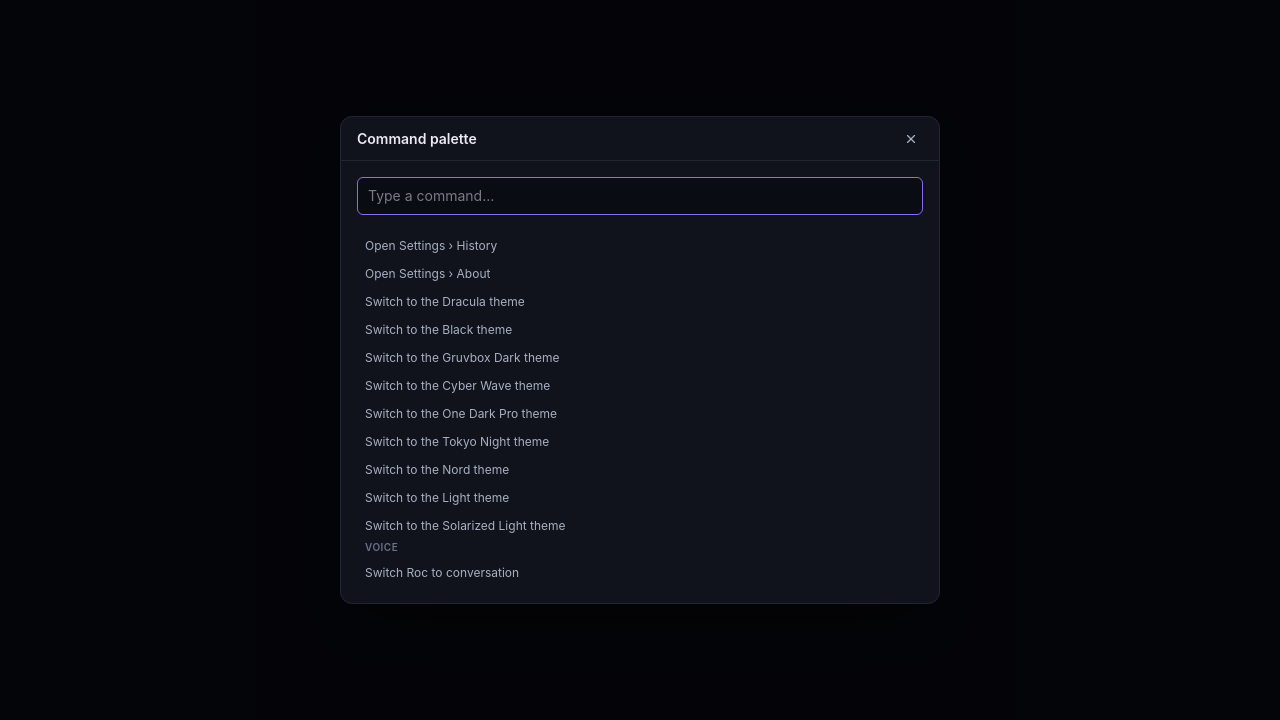
Test: CommandPalette › offers the voice mode you are not in, and switches to it
The image size is (1280, 720).
(page scrolled)
expect the option "Switch Roc to dictation" is not shown: met
Click the option "Switch Roc to conversation": (442, 572) [365,565,519,580]
(page scrolled)
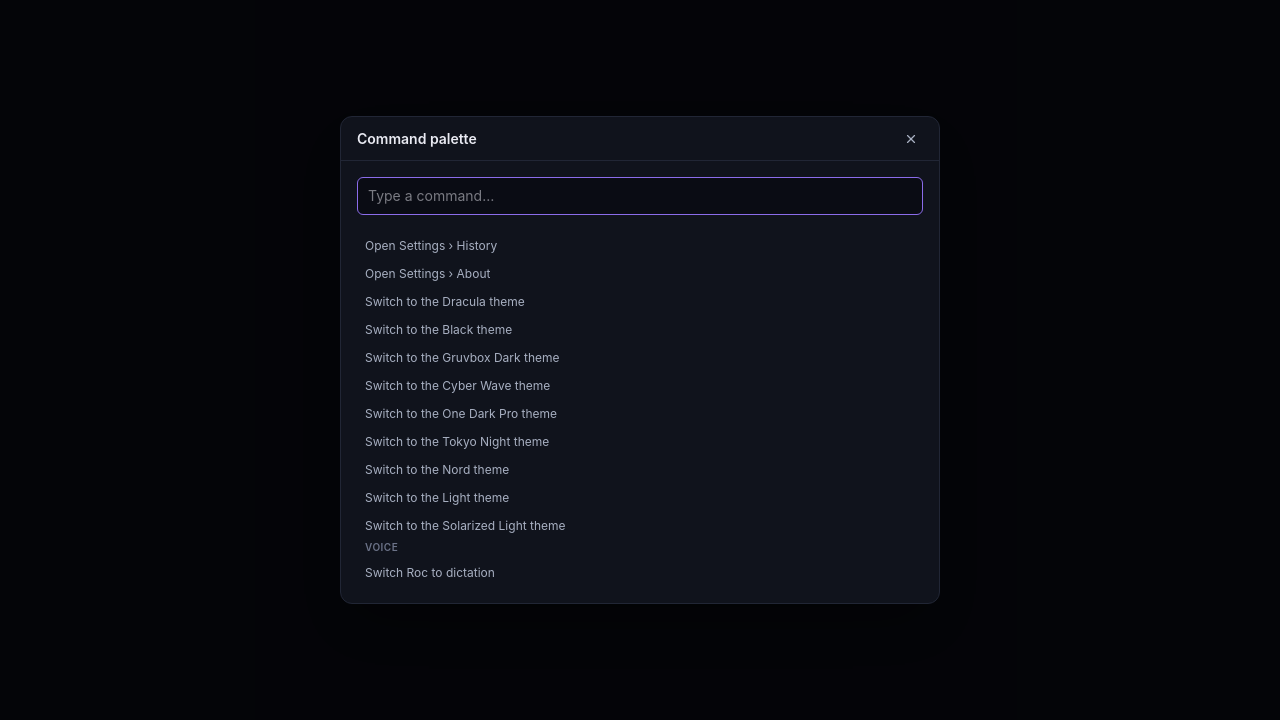
expect the option "Switch Roc to dictation" is shown: met, box [365,565,495,580]
expect the option "Switch Roc to conversation" is gone: met
